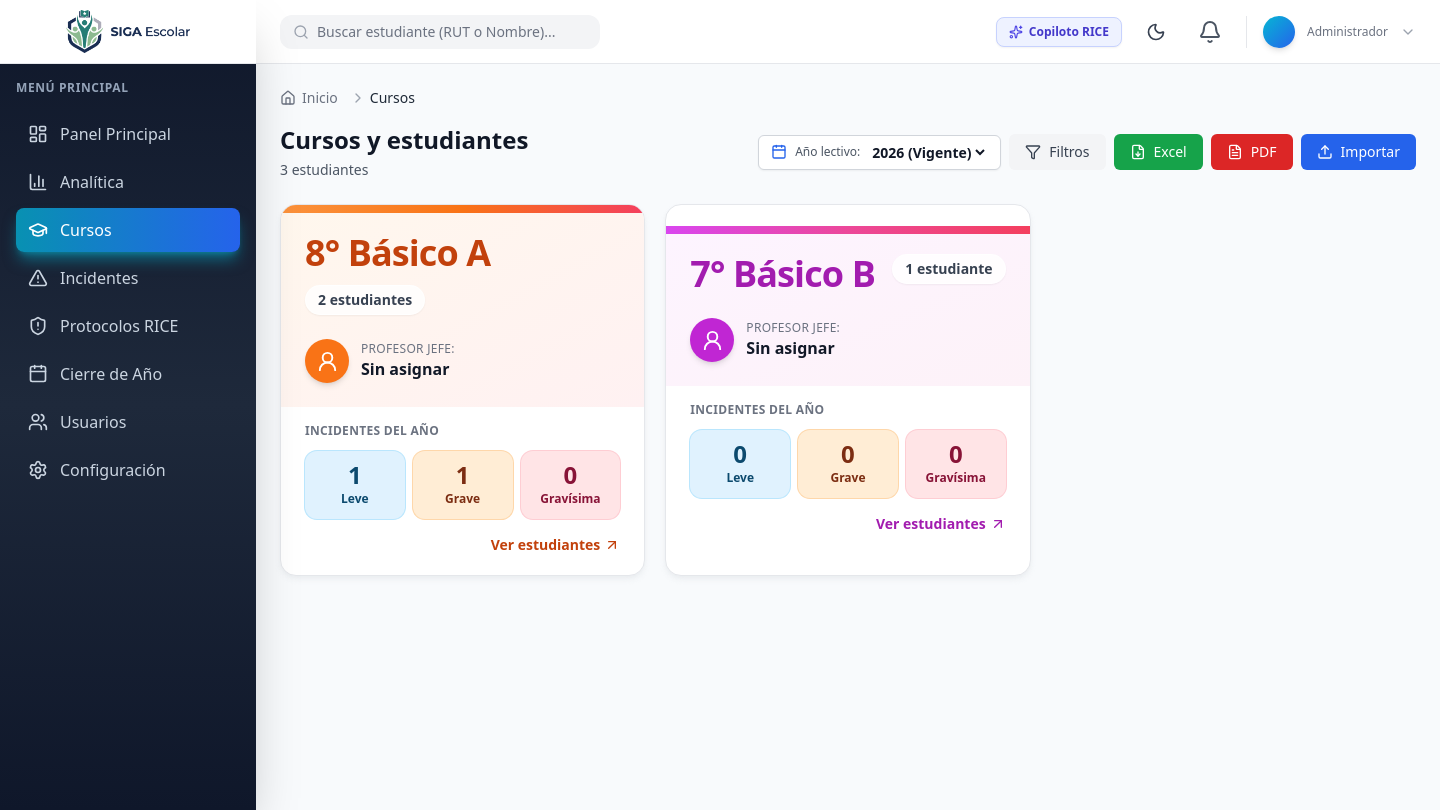
it: Directorio por cursos › abre solo los alumnos del curso y permite volver a las tarjetas
This screenshot has width=1440, height=810.
Click the button "8° Básico A" at (463, 390), box [280,204,645,576]
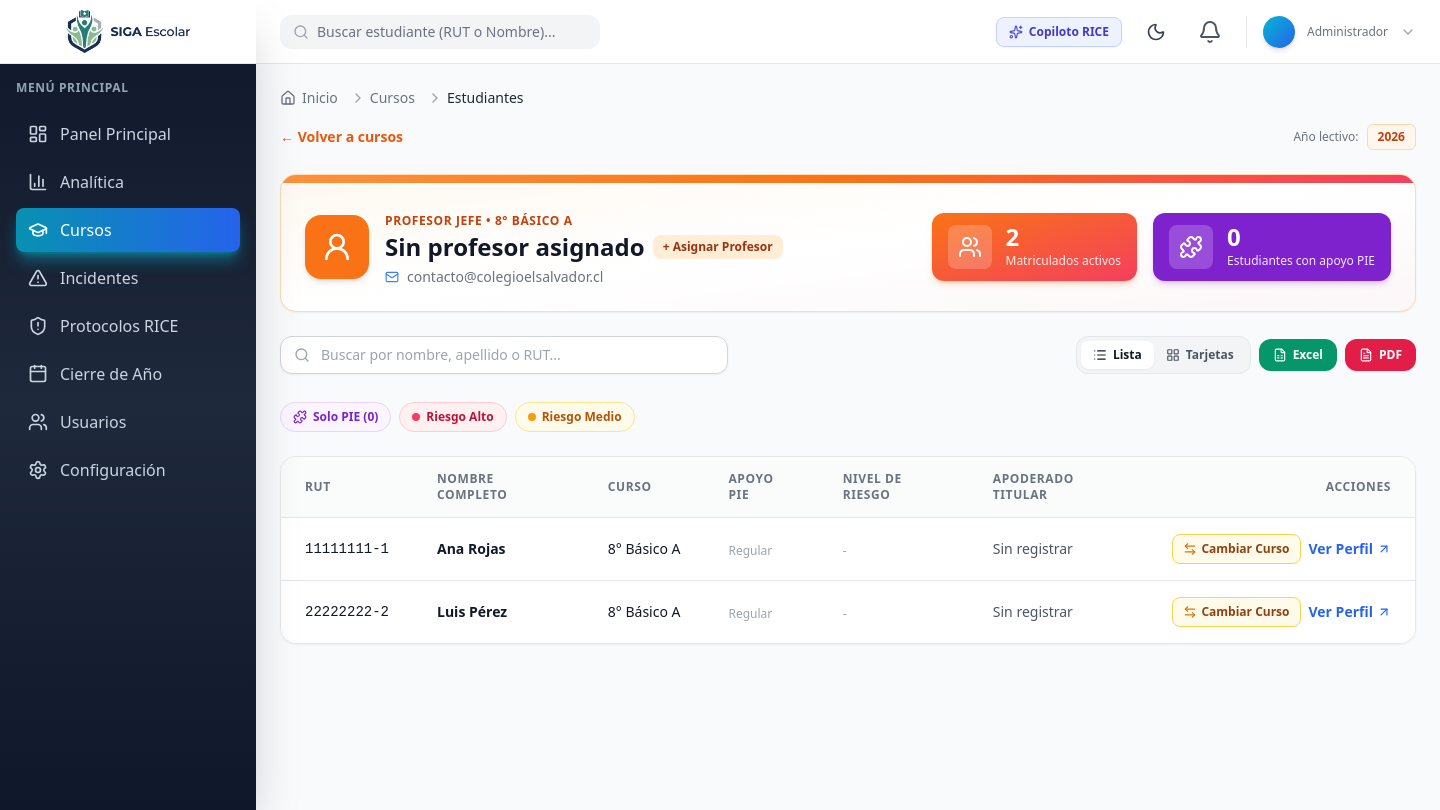
expect the text "Ana Rojas" is shown: met, box [437,539,506,558]
expect the text "Luis Pérez" is shown: met, box [437,602,507,621]
Click the button "← Volver a cursos" at (342, 137), box [280,127,403,147]
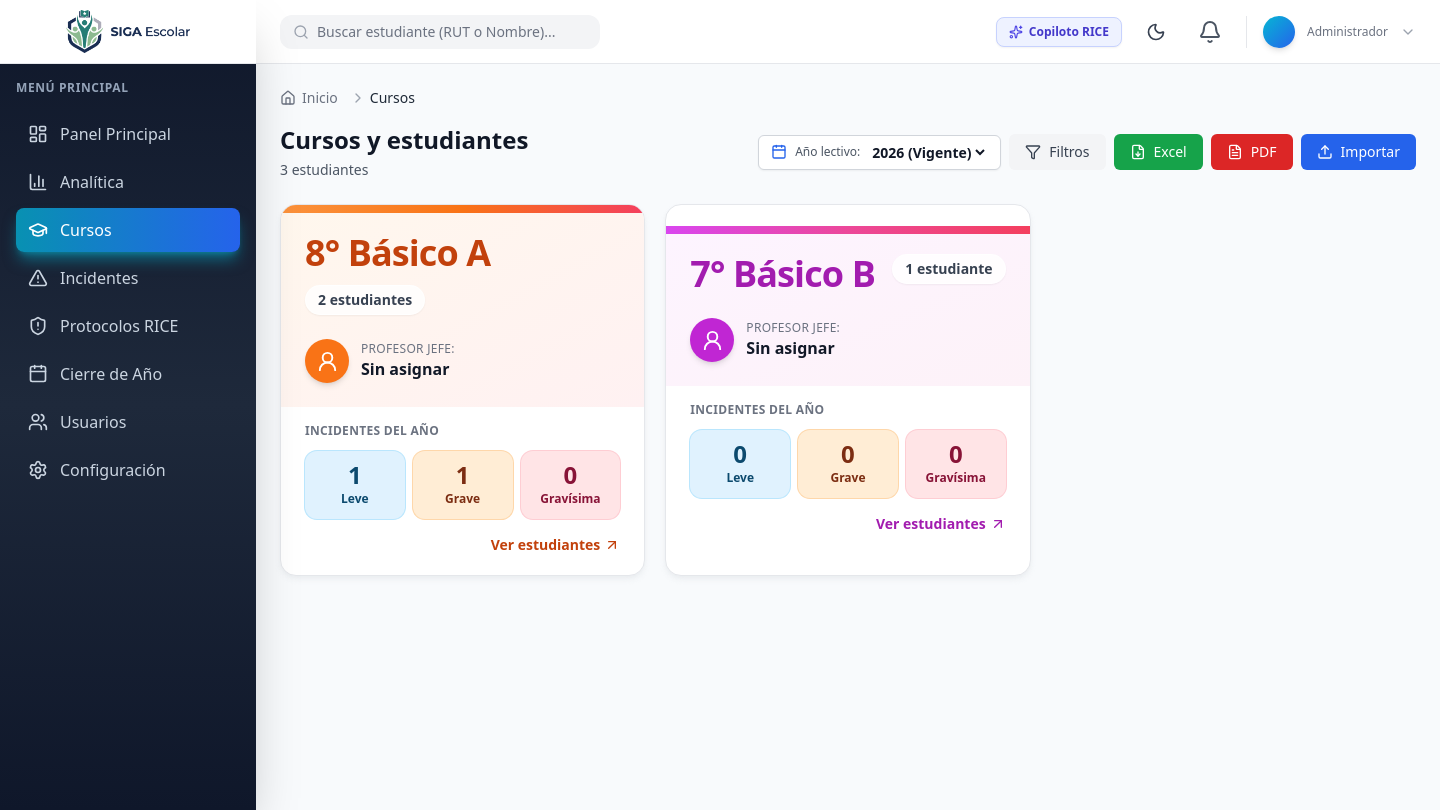
expect the button "7° Básico B" is shown: met, box [665,204,1031,576]
